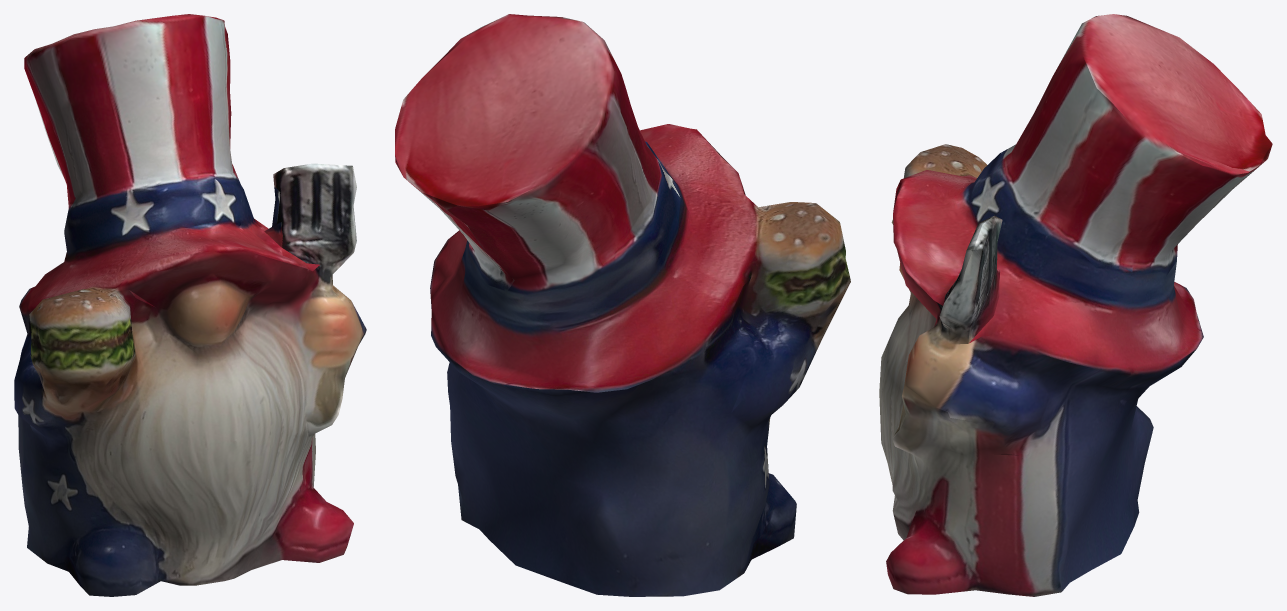
The model's file is usa_gnome.glb.
3 renders of one model, left to right at view 1: azimuth 30°, elevation 25°; view 2: azimuth 150°, elevation 25°; view 3: azimuth 270°, elevation 25°, orthographic. The views are drawn at different scales.
Parts seen in each view (by area): view 1: geo1; view 2: geo1; view 3: geo1.
Boxes of the visible parts, x1,y1,x2,y2 form: geo1: (14, 14, 366, 596); geo1: (395, 14, 850, 596); geo1: (879, 14, 1272, 596).
Bounding box in the file's own units: 3.13 × 4.42 × 3.08.
Materials: 1 (1 with a texture image).
